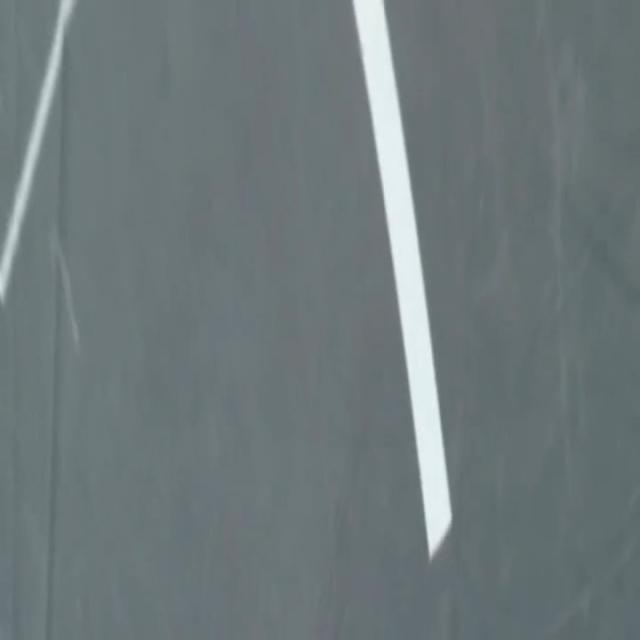center: (352, 0, 451, 558)
